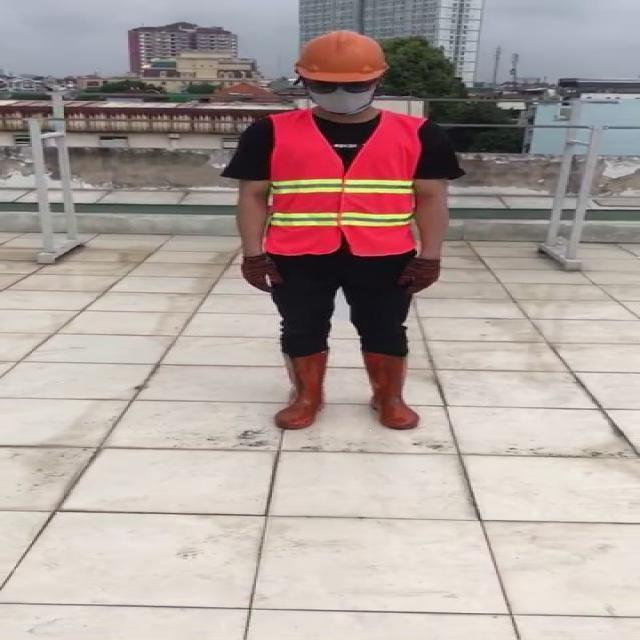gloves: (395, 257, 441, 296), (239, 254, 283, 294)
goggles: (292, 79, 382, 94)
helmet: (288, 28, 389, 86)
safety_vest: (263, 110, 421, 255)
